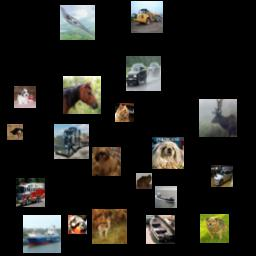airplane: (60, 5, 95, 40)
automobile: (126, 56, 161, 91), (211, 165, 233, 187)
bird: (7, 124, 23, 140)
cat: (68, 215, 87, 234), (115, 103, 134, 122)
deer: (199, 99, 237, 137), (92, 209, 127, 244)
dog: (152, 137, 184, 169), (200, 214, 229, 243), (92, 147, 121, 176), (14, 86, 36, 108)
frog: (136, 173, 152, 189)
ship: (23, 215, 61, 253), (146, 215, 175, 244), (155, 186, 177, 208)
truck: (54, 124, 89, 159), (131, 1, 163, 33), (16, 178, 45, 207)
